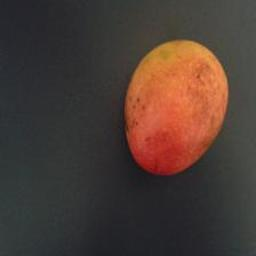Mango Semifresh: (122, 25, 231, 188)
